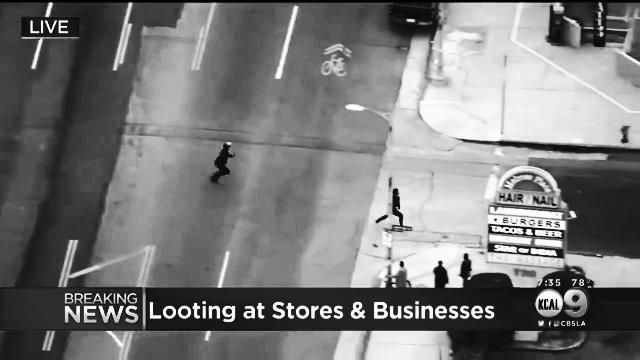berlari: (376, 184, 410, 231), (208, 140, 240, 185)
